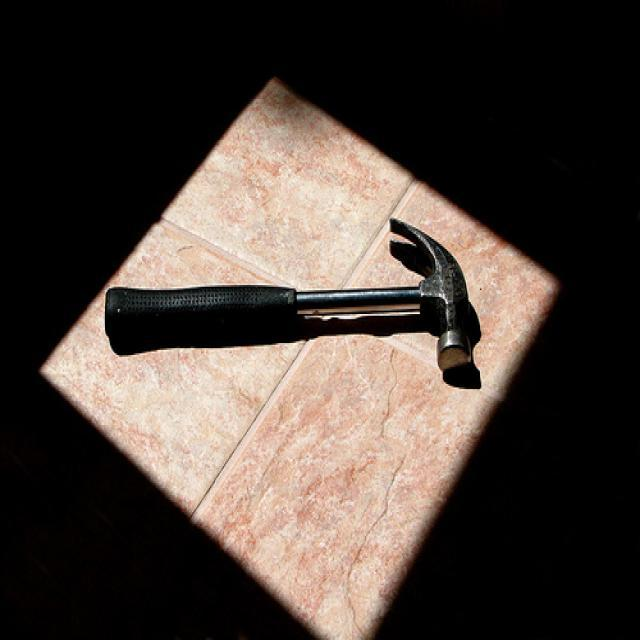hammer: (72, 200, 500, 423)
